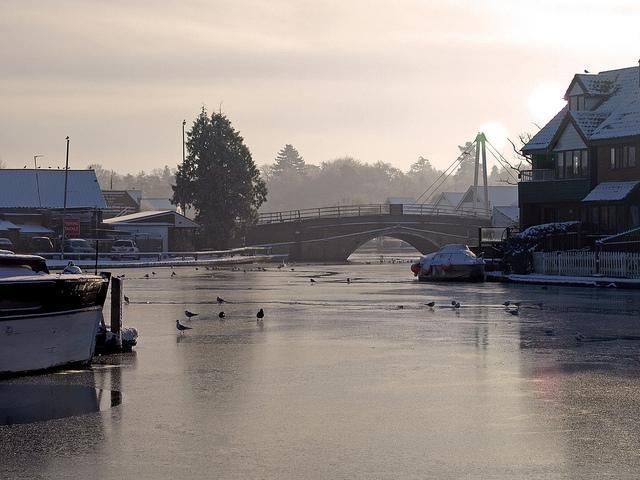car: (64, 238, 96, 260), (110, 239, 140, 261), (29, 236, 53, 259), (1, 237, 15, 252)
